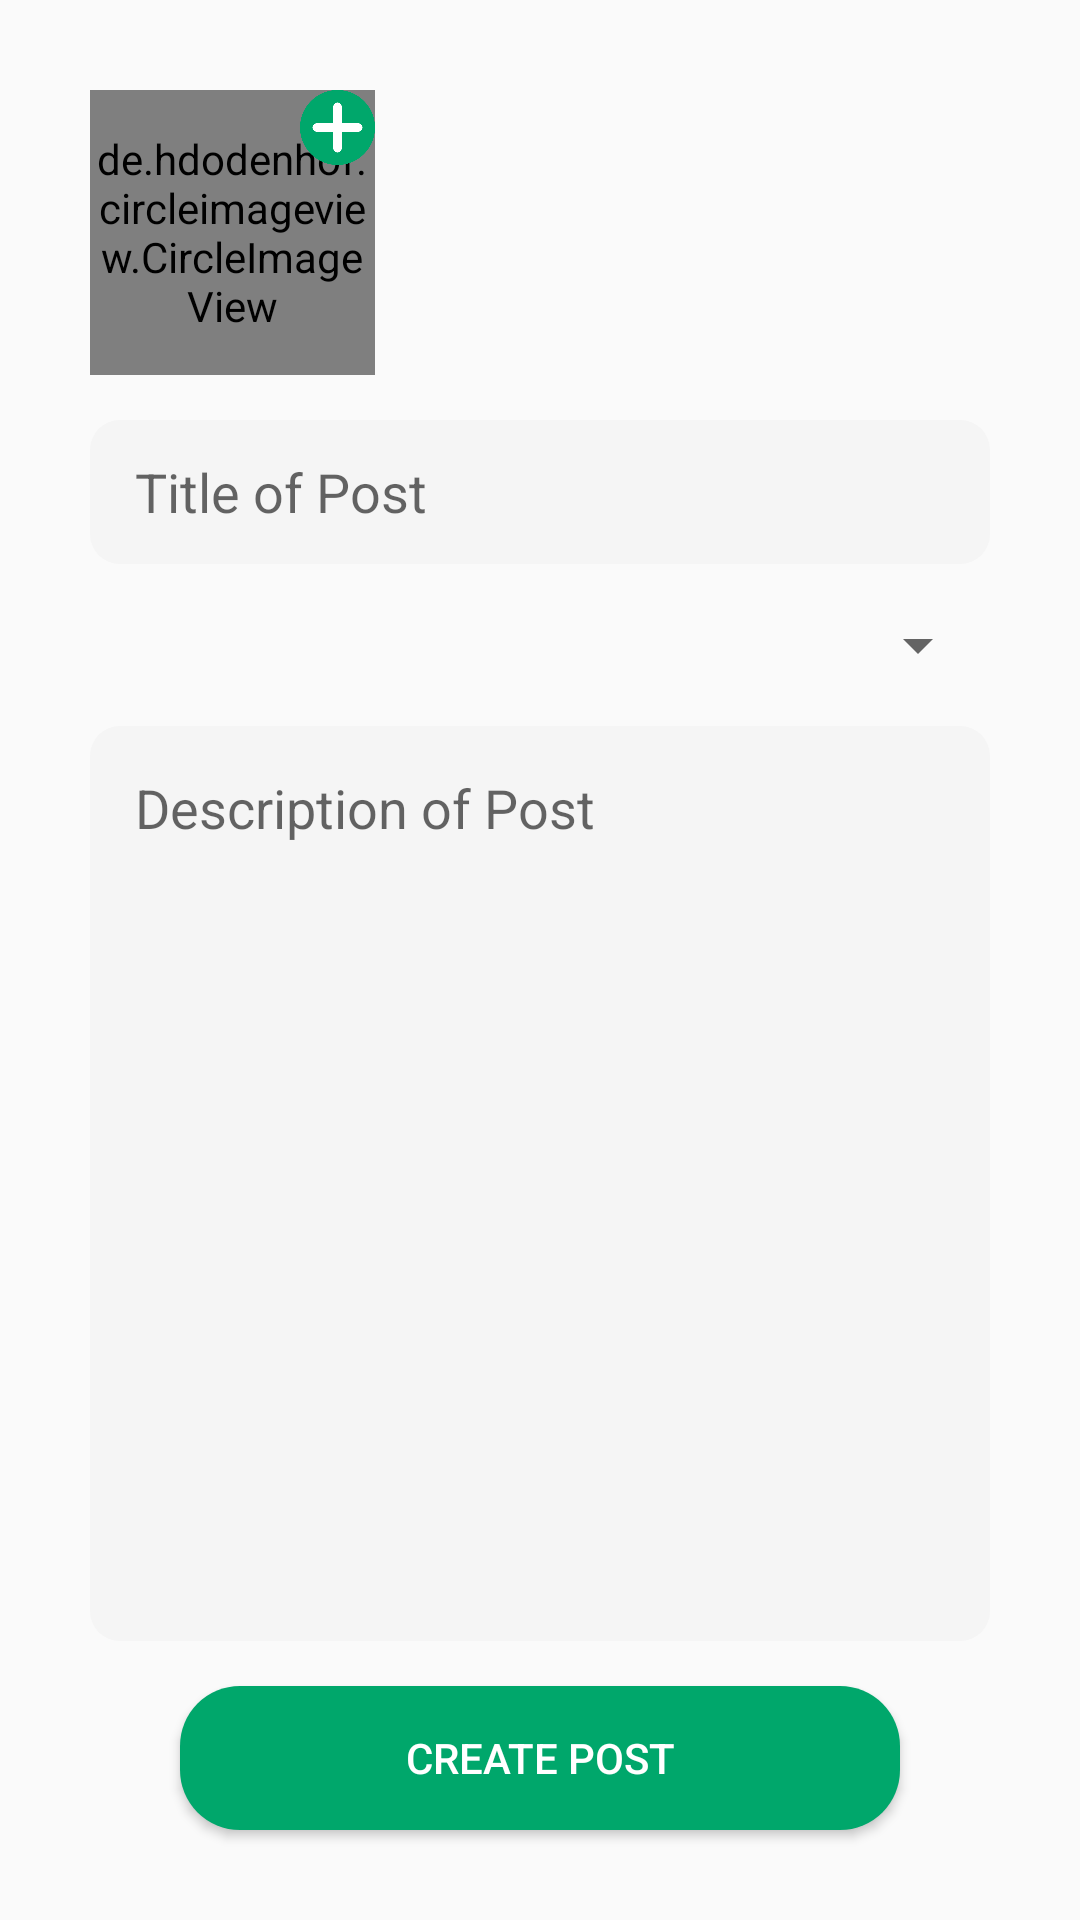

Named icons in this screenshot (1080px×1920px) and their centers, point (x, y):
add: point (337, 127)
